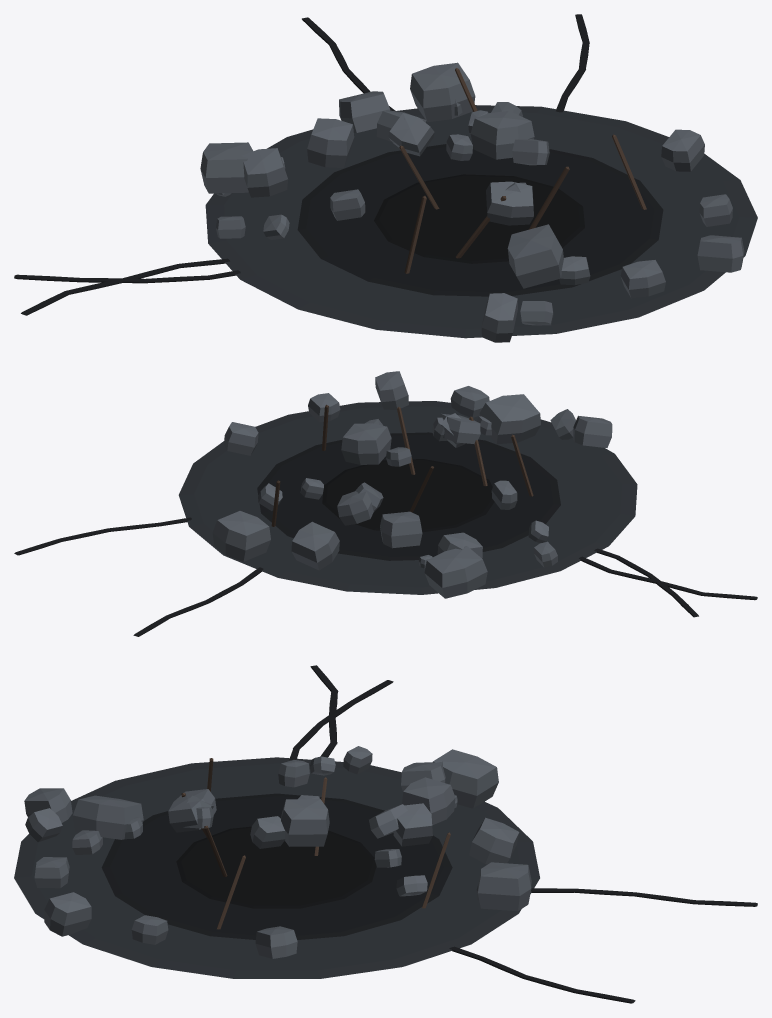
Rendered from s-crater.glb.
The picture shows the model from 3 angles, top to bottom: view 1: azimuth 30°, elevation 25°; view 2: azimuth 150°, elevation 25°; view 3: azimuth 270°, elevation 25°; orthographic projection. The views are drawn at different scales.
Parts seen in each view (by area): view 1: p; view 2: p; view 3: p.
Part boxes in pixels (box(x1,y1,x2,y2)): p: box(14, 14, 757, 342); p: box(14, 371, 757, 636); p: box(14, 665, 757, 1003).
Size of the model in its own units: 8.48 by 0.9813 by 7.89.
